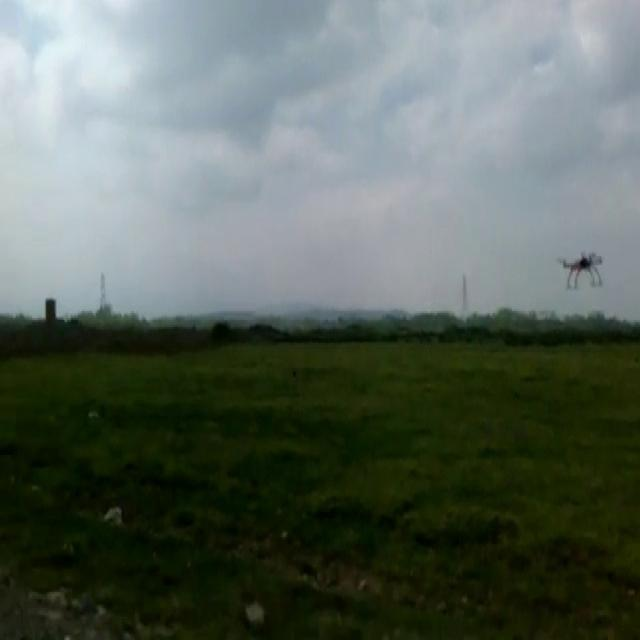drone: (555, 249, 605, 286)
